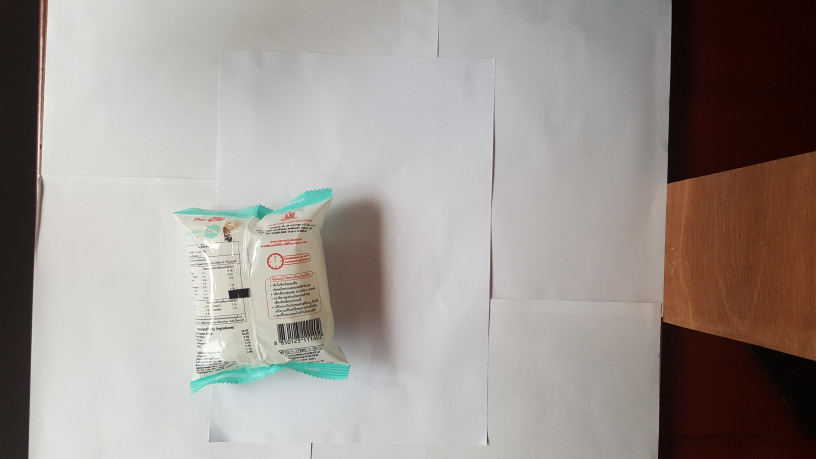farmhouse-sweetsandwich-chocolate: (167, 188, 355, 399)
